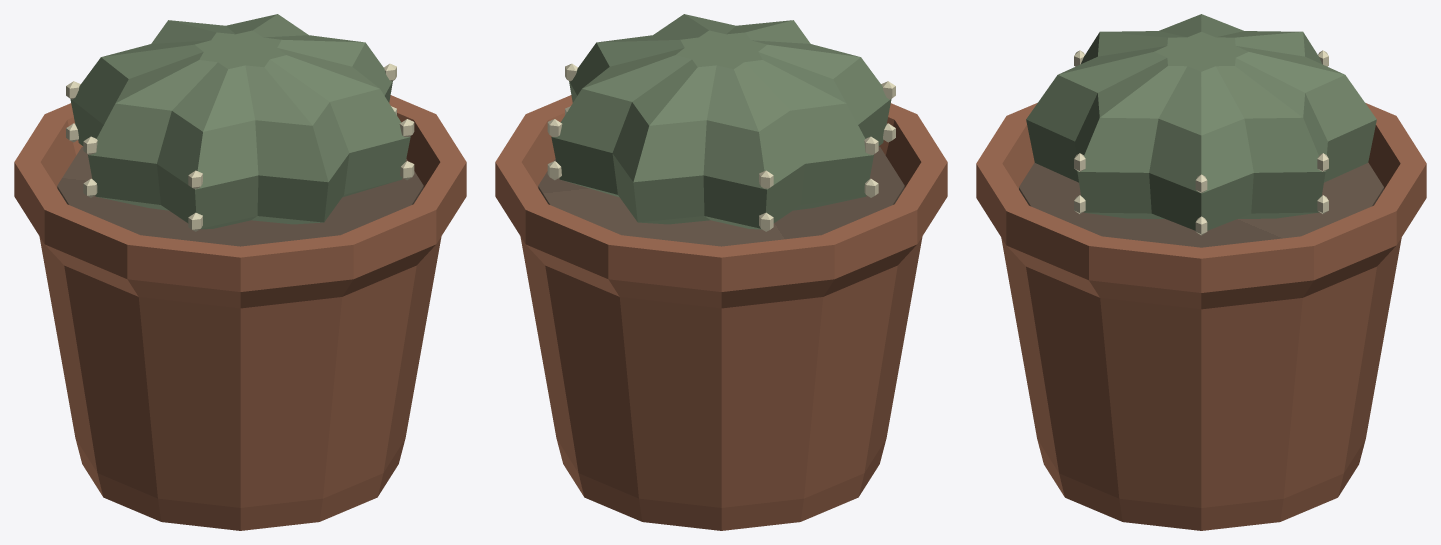
The model's file is new-asterias.glb.
The picture shows the model from 3 angles, left to right: view 1: azimuth 30°, elevation 25°; view 2: azimuth 150°, elevation 25°; view 3: azimuth 270°, elevation 25°; orthographic projection.
Visible parts, largest first — view 1: new-asterias/review-terra-vessel, new-asterias/ribbed-stem-001, new-asterias/review-rooted-soil; view 2: new-asterias/review-terra-vessel, new-asterias/ribbed-stem-001, new-asterias/review-rooted-soil; view 3: new-asterias/review-terra-vessel, new-asterias/ribbed-stem-001, new-asterias/review-rooted-soil.
Boxes of the visible parts, bbox=[...] form: new-asterias/review-terra-vessel: bbox=[14, 95, 466, 530]; new-asterias/ribbed-stem-001: bbox=[70, 14, 410, 229]; new-asterias/review-rooted-soil: bbox=[57, 146, 423, 246]; new-asterias/review-terra-vessel: bbox=[495, 95, 947, 530]; new-asterias/ribbed-stem-001: bbox=[551, 14, 891, 229]; new-asterias/review-rooted-soil: bbox=[538, 146, 904, 246]; new-asterias/review-terra-vessel: bbox=[976, 103, 1426, 530]; new-asterias/ribbed-stem-001: bbox=[1026, 14, 1376, 230]; new-asterias/review-rooted-soil: bbox=[1019, 162, 1383, 247].
Bounding box in the file's own units: 0.19 × 0.192 × 0.19.
4 materials, 4 textured.
